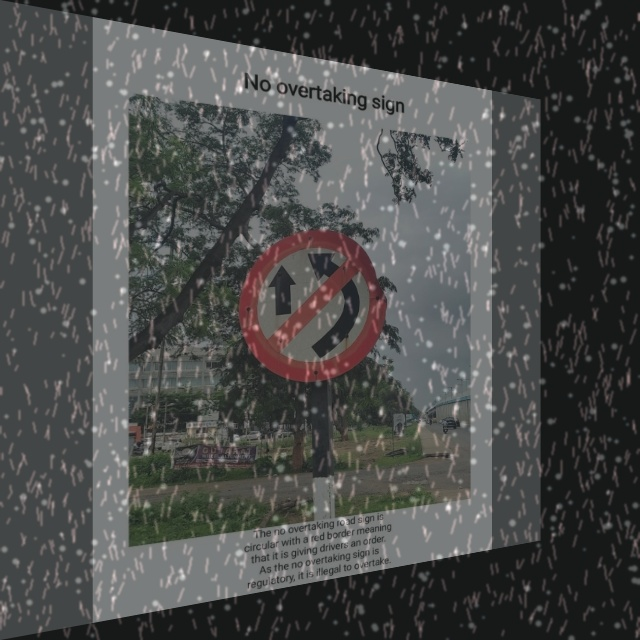Overtaking_Prohibited: (243, 222, 385, 386)
